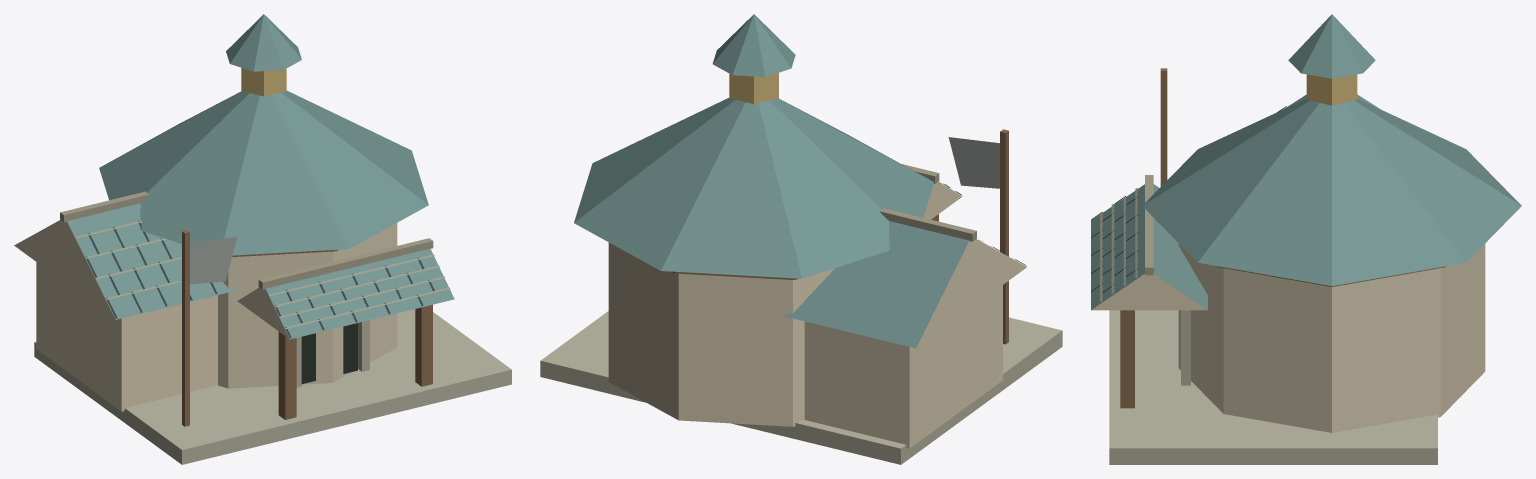
The model's file is townHall.glb.
3 renders of one model, left to right at view 1: azimuth 30°, elevation 25°; view 2: azimuth 150°, elevation 25°; view 3: azimuth 270°, elevation 25°, orthographic. The views are drawn at different scales.
Visible parts, largest first — view 1: Building; view 2: Building; view 3: Building.
Part boxes in pixels (x1,y1,x2,y2): Building: (14, 14, 511, 464); Building: (540, 14, 1062, 464); Building: (1091, 14, 1521, 464).
Bounding box in the file's own units: 61.5 × 56 × 59.
